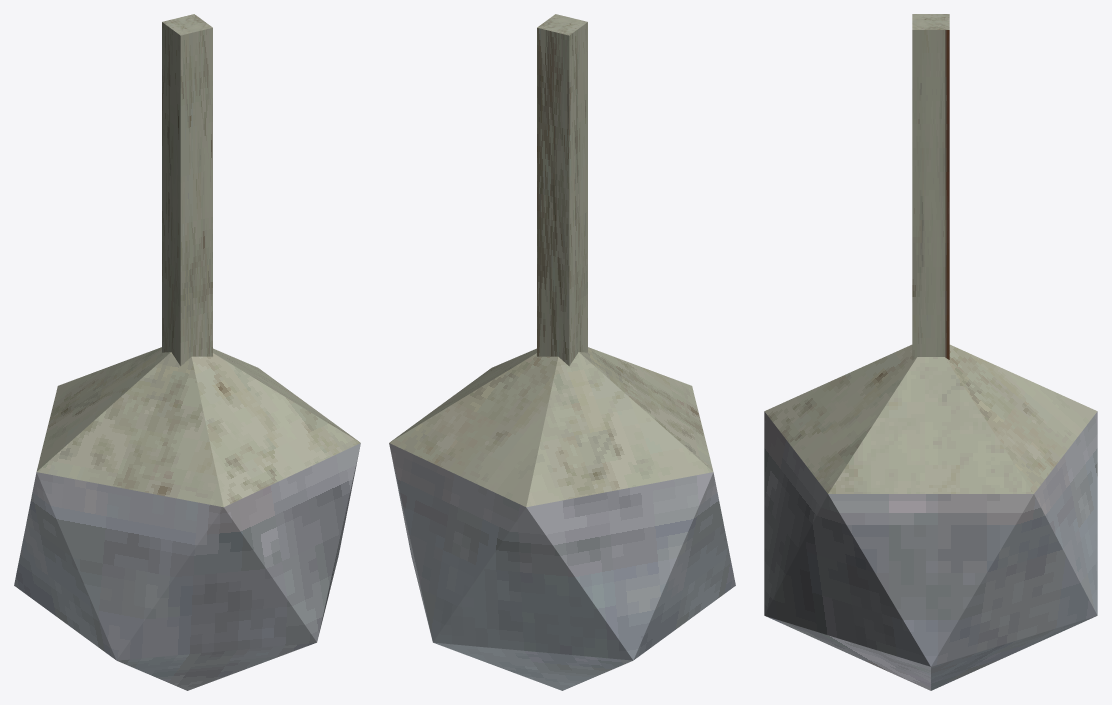
Rendered from item_halloween_ceiling_light.glb.
3 renders of one model, left to right at view 1: azimuth 30°, elevation 25°; view 2: azimuth 150°, elevation 25°; view 3: azimuth 270°, elevation 25°, orthographic.
Visible parts, largest first — view 1: ceiling_light_submesh_0, ceiling_light_submesh_1; view 2: ceiling_light_submesh_0, ceiling_light_submesh_1; view 3: ceiling_light_submesh_0, ceiling_light_submesh_1.
Boxes of the visible parts, bbox=[...] form: ceiling_light_submesh_0: bbox=[14, 443, 360, 690]; ceiling_light_submesh_1: bbox=[36, 14, 360, 507]; ceiling_light_submesh_0: bbox=[389, 443, 735, 690]; ceiling_light_submesh_1: bbox=[389, 14, 713, 507]; ceiling_light_submesh_0: bbox=[764, 411, 1097, 690]; ceiling_light_submesh_1: bbox=[764, 14, 1097, 493].
Size of the model in its own units: 0.2373 by 0.5 by 0.2257.
2 materials, 2 textured.
